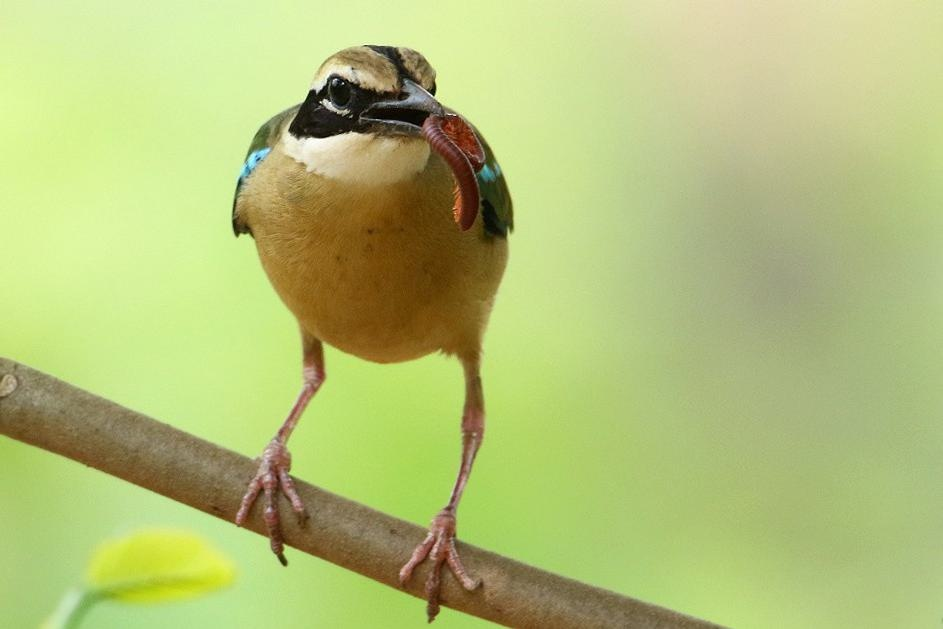pitta: (243, 26, 510, 588)
